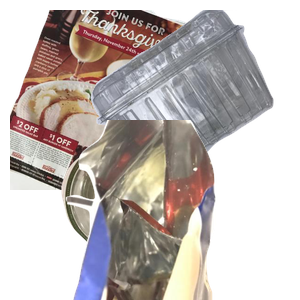glass: (59, 135, 254, 300)
paper: (10, 10, 224, 190)
plastic: (88, 10, 300, 180)
trash: (63, 120, 300, 300)
